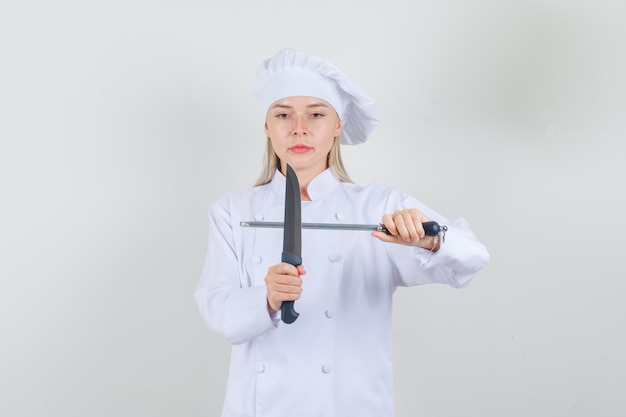knife: (281, 159, 308, 261)
